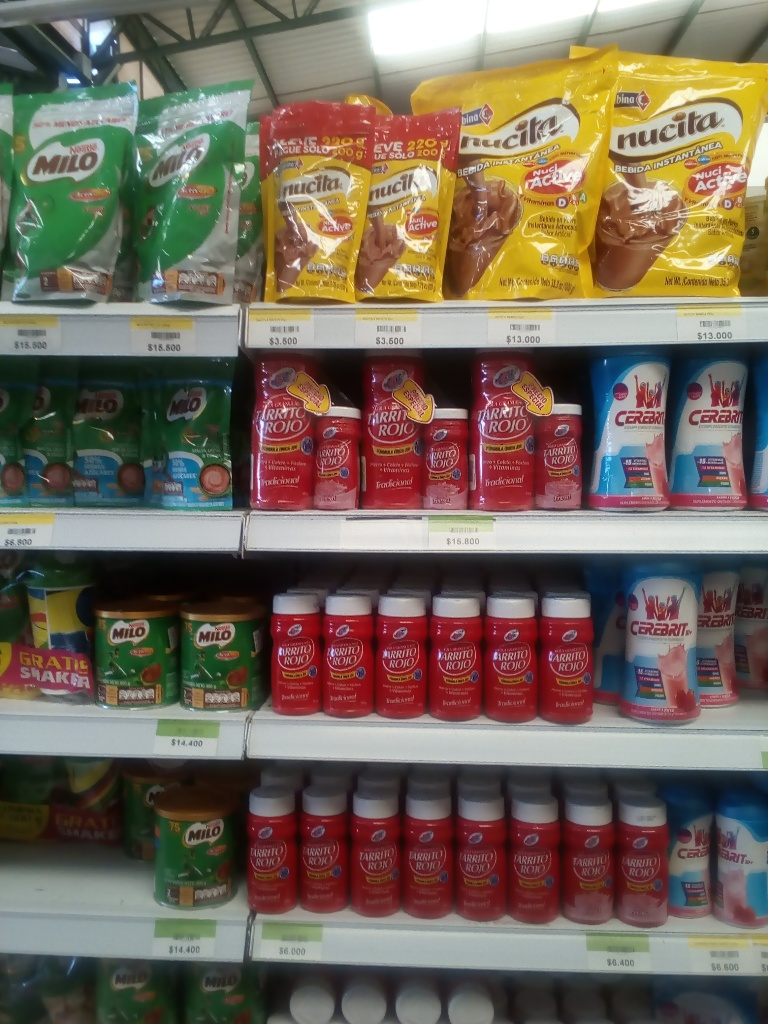COL0170203LAT40000: (148, 791, 238, 912)
COL0170205DYP20000: (137, 356, 242, 513)
COL0170205DYP50000: (133, 78, 256, 303)
